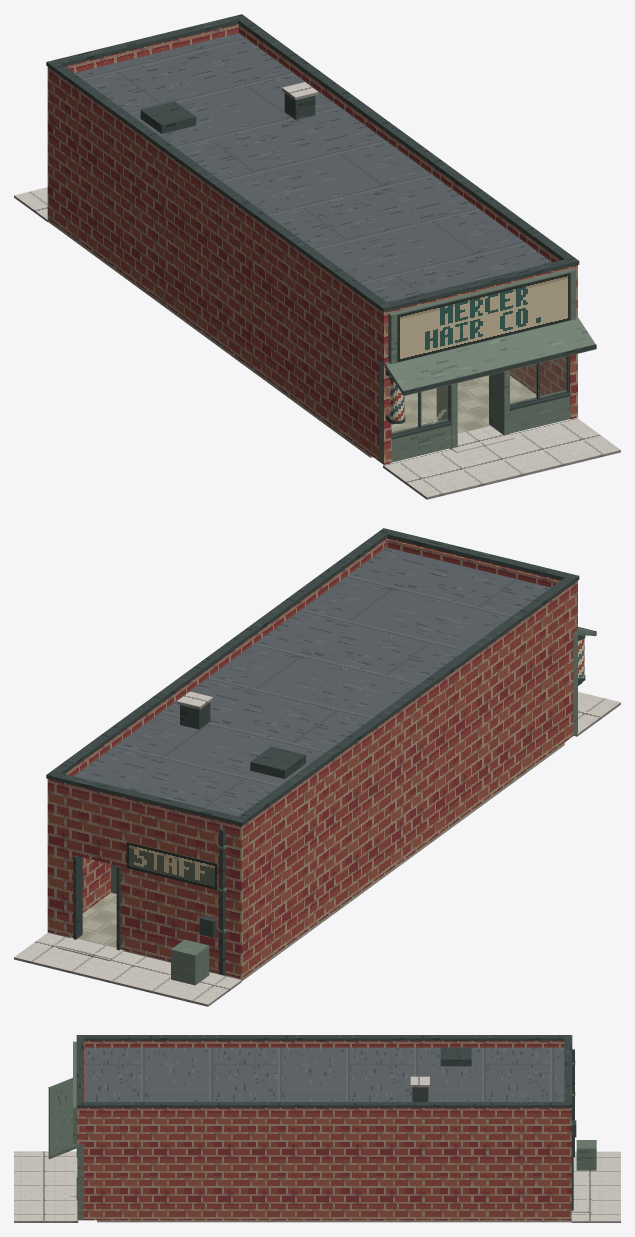
File: barber-1980.glb
3 views of the same model, one above another, from view 1: azimuth 30°, elevation 25°; view 2: azimuth 150°, elevation 25°; view 3: azimuth 270°, elevation 25° (orthographic). The views are drawn at different scales.
Visible parts, largest first — view 1: shell, lot, sign_name, fixed_interior; view 2: shell, lot, fixed_interior, sign_staff; view 3: shell, lot, fixed_interior.
Part boxes in pixels (left/top/right/bottom): shell: left=46, top=14, right=596, bottom=464; lot: left=14, top=187, right=620, bottom=499; sign_name: left=397, top=273, right=570, bottom=362; fixed_interior: left=47, top=219, right=536, bottom=457; shell: left=46, top=528, right=596, bottom=978; lot: left=14, top=692, right=620, bottom=1006; fixed_interior: left=47, top=743, right=564, bottom=981; sign_staff: left=126, top=842, right=216, bottom=889; shell: left=48, top=1035, right=591, bottom=1220; lot: left=14, top=1140, right=620, bottom=1222; fixed_interior: left=97, top=1220, right=571, bottom=1222.
Size of what is drawn, in the model's own units: 6.05 by 5.06 by 22.1.
11 materials, 11 textured.
